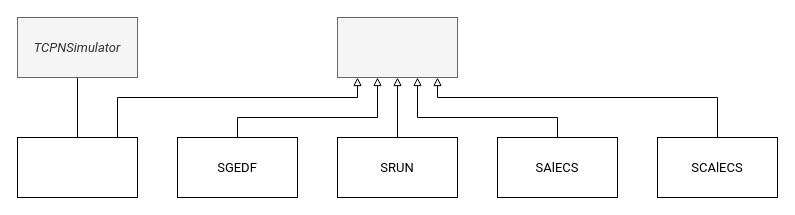
Image size: 795x215. Some labels were removed from this diagram. The centre of each missing label's shape, as x and y in pixels:
Centralized Scheduler: point (397, 47)
SOLDTFS: point (77, 167)
